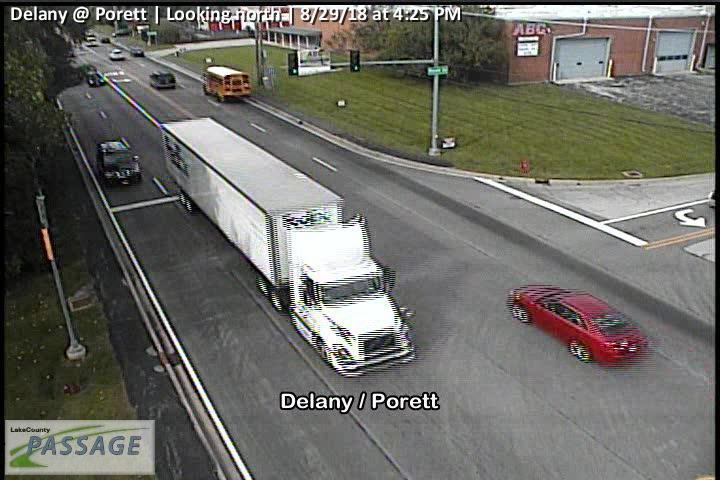SUV: (94, 139, 144, 189), (148, 67, 178, 90), (108, 48, 125, 60)
Sedan: (506, 283, 653, 368), (86, 70, 104, 87), (129, 46, 143, 57)
Truck: (160, 114, 418, 380), (201, 65, 253, 103)
